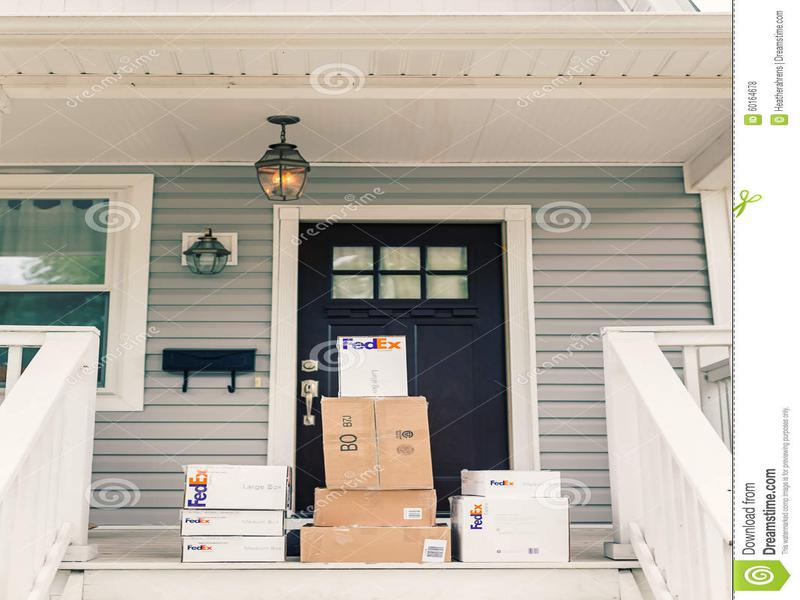package: (316, 394, 436, 493), (444, 493, 576, 572), (293, 524, 456, 568), (179, 458, 297, 512), (307, 486, 443, 529), (333, 330, 413, 401), (177, 531, 286, 563), (456, 467, 563, 499), (179, 507, 289, 536)
